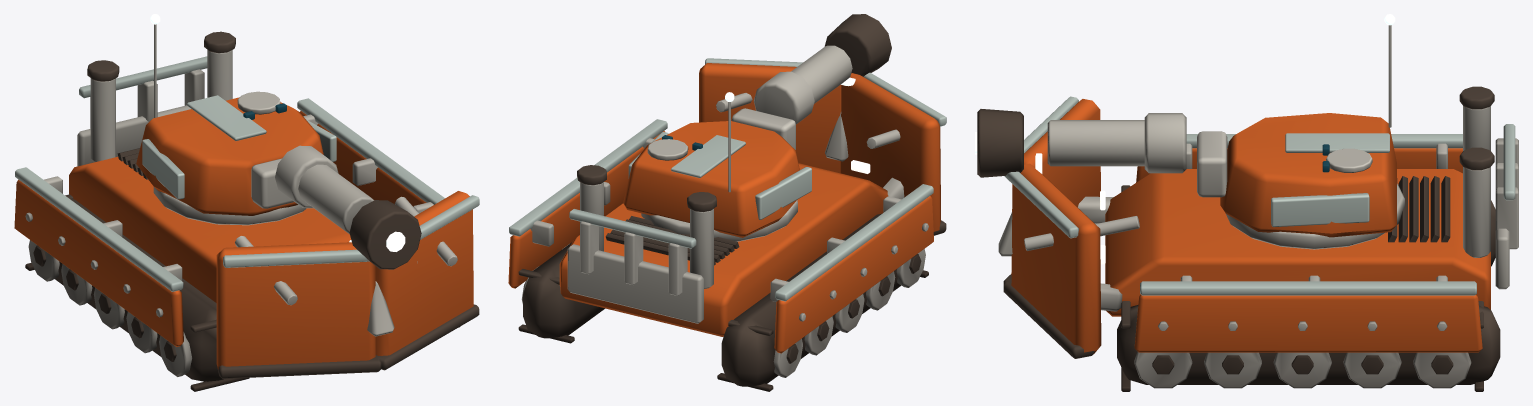
Rendered from rampart.glb.
3 renders of one model, left to right at view 1: azimuth 30°, elevation 25°; view 2: azimuth 150°, elevation 25°; view 3: azimuth 270°, elevation 25°, orthographic. The views are drawn at different scales.
Visible parts, largest first — view 1: Blade, Hull, Turret_head, Skirt, Steel, Trim, Tracks, Main_cannon, Turret_head.001, Muzzle_brake, Blade_back, Wheels (+4 smaller); view 2: Blade, Hull, Steel, Skirt, Turret_head, Tracks, Trim, Main_cannon, Turret_head.001, Wheels, Muzzle_brake, Deck (+3 smaller); view 3: Hull, Skirt, Turret_head, Blade, Steel, Tracks, Wheels, Trim, Main_cannon, Turret_head.001, Deck, Turret_head.002 (+4 smaller).
Boxes of the visible parts, x1=… form: Blade: x1=216, y1=191, x2=473, y2=369; Hull: x1=69, y1=156, x2=351, y2=302; Turret_head: x1=136, y1=97, x2=323, y2=215; Skirt: x1=14, y1=111, x2=426, y2=346; Steel: x1=25, y1=49, x2=433, y2=317; Trim: x1=15, y1=56, x2=444, y2=291; Tracks: x1=25, y1=194, x2=459, y2=391; Main_cannon: x1=275, y1=145, x2=374, y2=234; Turret_head.001: x1=142, y1=95, x2=336, y2=199; Muzzle_brake: x1=349, y1=200, x2=421, y2=269; Blade_back: x1=217, y1=304, x2=479, y2=378; Wheels: x1=28, y1=240, x2=192, y2=376; Blade: x1=699, y1=63, x2=940, y2=231; Hull: x1=559, y1=163, x2=888, y2=336; Steel: x1=530, y1=138, x2=928, y2=323; Skirt: x1=508, y1=131, x2=933, y2=353; Turret_head: x1=623, y1=121, x2=799, y2=237; Tracks: x1=518, y1=213, x2=928, y2=391; Trim: x1=509, y1=119, x2=933, y2=301; Main_cannon: x1=754, y1=45, x2=852, y2=124; Turret_head.001: x1=628, y1=132, x2=811, y2=219; Wheels: x1=521, y1=244, x2=925, y2=377; Muzzle_brake: x1=824, y1=14, x2=891, y2=76; Deck: x1=577, y1=165, x2=739, y2=265; Hull: x1=1105, y1=169, x2=1490, y2=316; Skirt: x1=1134, y1=148, x2=1482, y2=352; Turret_head: x1=1220, y1=113, x2=1396, y2=237; Blade: x1=1011, y1=99, x2=1101, y2=353; Steel: x1=1158, y1=106, x2=1518, y2=330; Tracks: x1=1117, y1=185, x2=1500, y2=391; Wheels: x1=1134, y1=352, x2=1471, y2=388; Trim: x1=1140, y1=124, x2=1515, y2=295; Main_cannon: x1=1047, y1=113, x2=1186, y2=173; Turret_head.001: x1=1271, y1=133, x2=1389, y2=227; Deck: x1=1388, y1=86, x2=1494, y2=242; Turret_head.002: x1=1197, y1=25, x2=1391, y2=197.
Size of the model in its own units: 3.2 by 2.74 by 4.68.
